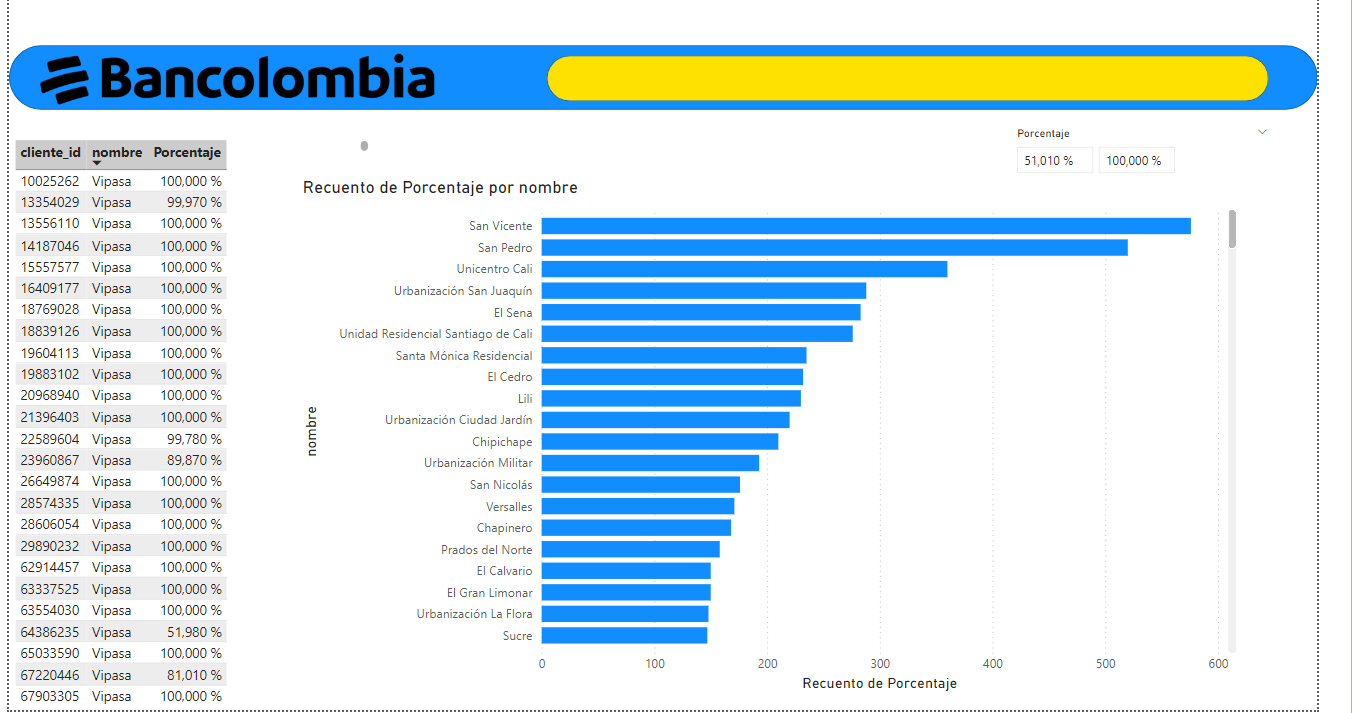

The dashboard page shown, as its layout file describes it:
{"tool":"powerbi","page":{"name":"1.1","canvas":[1280,720],"ordinal":0},"visuals":[{"type":"shape","box":[0,70,1280.3,63.1],"z":0},{"type":"shape","box":[525.6,79.6,706.7,45.3],"z":1000},{"type":"image","box":[26.1,61.7,397.9,83.7],"z":2000},{"type":"tableEx","fields":{"Values":["solucion_ej_1.cliente_id","solucion_ej_1.nombre","solucion_ej_1.Porcentaje"]},"box":[0,157.7,357.1,562.5],"z":3000},{"type":"slicer","fields":{"Values":["solucion_ej_1.Porcentaje"]},"box":[973.4,144.3,270.2,66],"z":4000},{"type":"barChart","fields":{"Y":["CountNonNull(solucion_ej_1.Porcentaje)"],"Category":["solucion_ej_1.nombre"]},"box":[282.8,197.7,923.4,509.2],"z":5000}]}

Visuals, with their boxes on the page's 1280x720 design canvas (x1, y1, x2, y2). These are canvas units, not pixel positions in the 1352x713 screenshot, which may show the page scaled, cropped or inside an application window:
shape: box=[0, 70, 1280, 133]
shape: box=[526, 80, 1232, 125]
image: box=[26, 62, 424, 145]
tableEx - solucion_ej_1.cliente_id x solucion_ej_1.nombre: box=[0, 158, 357, 720]
slicer - solucion_ej_1.Porcentaje: box=[973, 144, 1244, 210]
barChart - CountNonNull(solucion_ej_1.Porcentaje) x solucion_ej_1.nombre: box=[283, 198, 1206, 707]
